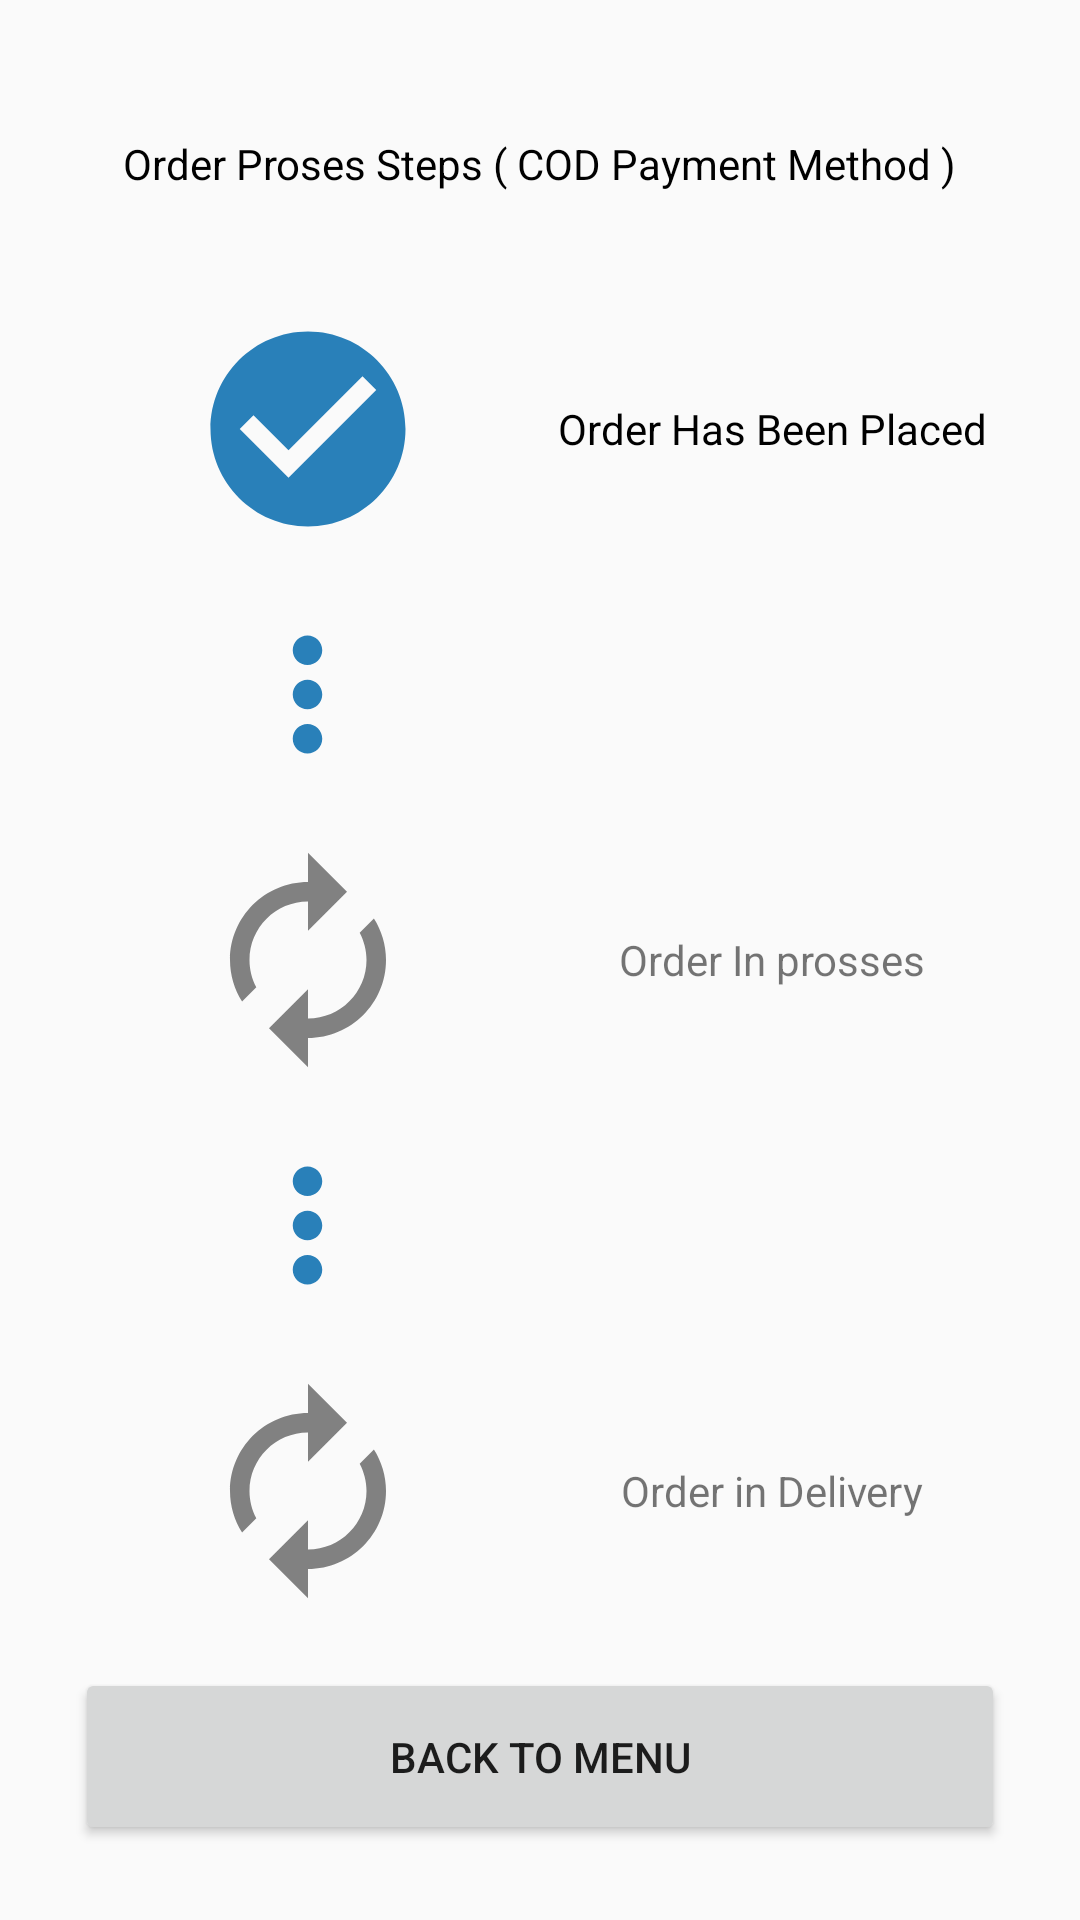

Point at icon controls on the screen. Image size 1080 x 1920, points as (x=x, y=y).
garis: (x=307, y=694), (x=307, y=1225)
loading: (x=308, y=960), (x=308, y=1491)
order check tracking: (x=308, y=429)
